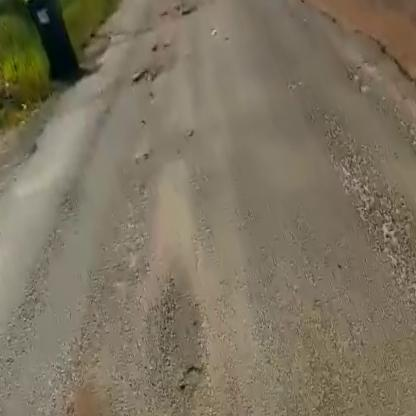pothole: (125, 61, 170, 90)
